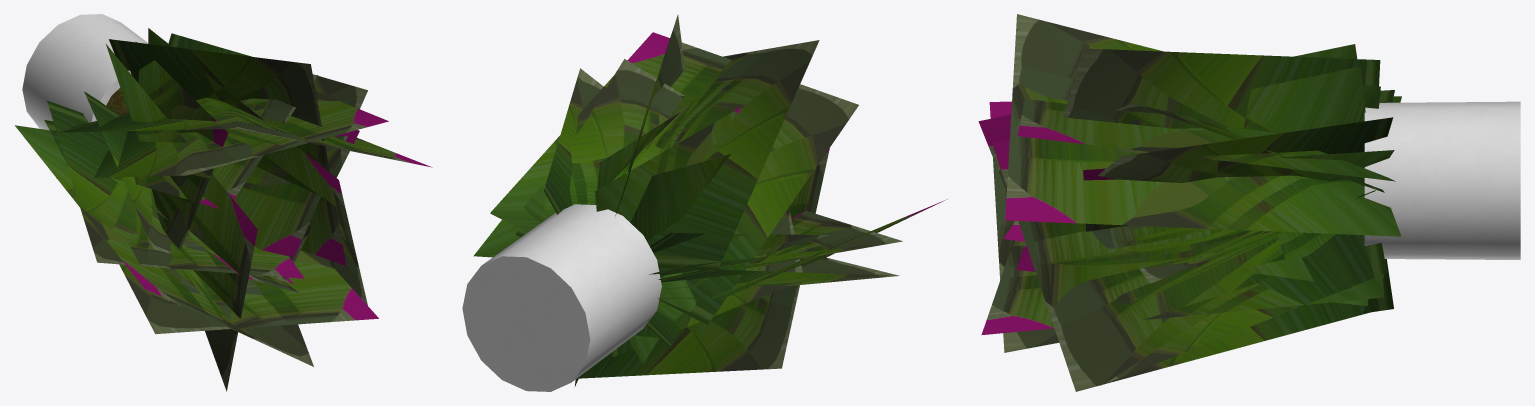
Rendered from 绿植-花盆绿植0.glb.
3 renders of one model, left to right at view 1: azimuth 30°, elevation 25°; view 2: azimuth 150°, elevation 25°; view 3: azimuth 270°, elevation 25°, orthographic. The views are drawn at different scales.
Visible parts, largest first — view 1: Pot_Low_PolyPlant_0; view 2: Pot_Low_PolyPlant_0; view 3: Pot_Low_PolyPlant_0.
Boxes of the visible parts, bbox=[...] form: Pot_Low_PolyPlant_0: bbox=[15, 14, 432, 391]; Pot_Low_PolyPlant_0: bbox=[462, 15, 947, 391]; Pot_Low_PolyPlant_0: bbox=[978, 14, 1520, 391].
Size of the model in its own units: 1.1 by 1.07 by 1.46.
1 material, 1 textured.
